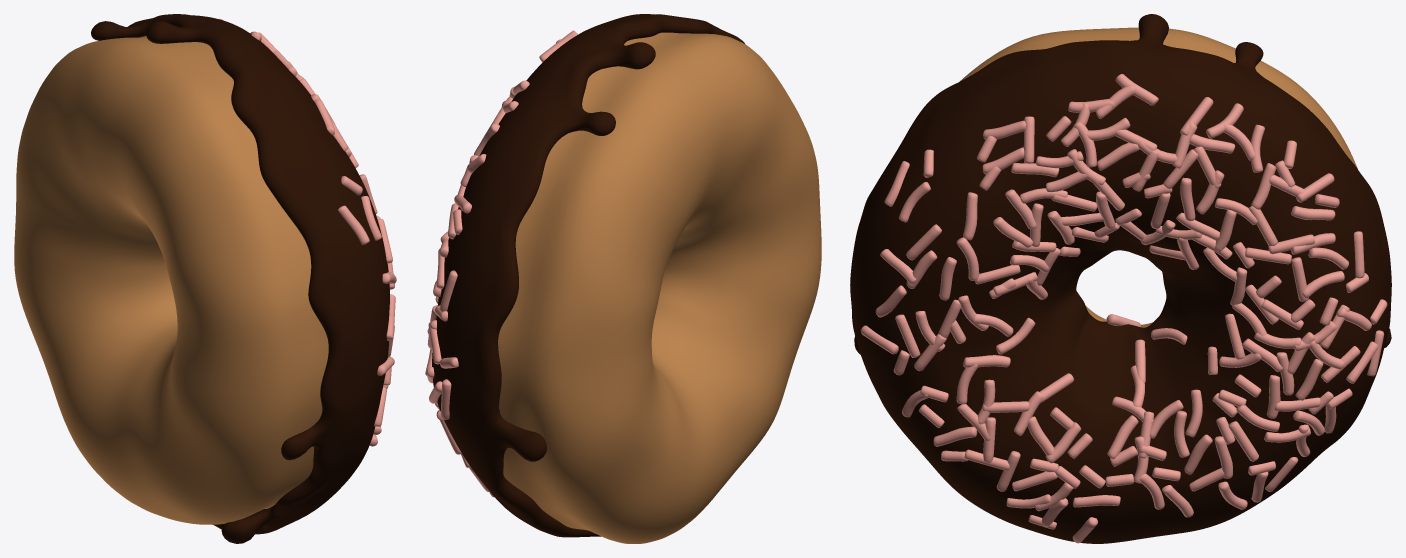
File: rosquinha_leo.fbx
3 renders of one model, left to right at view 1: azimuth 30°, elevation 25°; view 2: azimuth 150°, elevation 25°; view 3: azimuth 270°, elevation 25°, orthographic. The views are drawn at different scales.
Visible parts, largest first — view 1: Donut, Icing; view 2: Donut, Icing; view 3: Icing, Donut.
Part boxes in pixels (bbox=[...]): Donut: bbox=[14, 36, 328, 524]; Icing: bbox=[91, 14, 396, 543]; Donut: bbox=[498, 32, 821, 543]; Icing: bbox=[425, 14, 744, 537]; Icing: bbox=[850, 14, 1391, 543]; Donut: bbox=[959, 27, 1357, 327].
Bounding box in the file's own units: 4.21 × 9.93 × 9.69.
